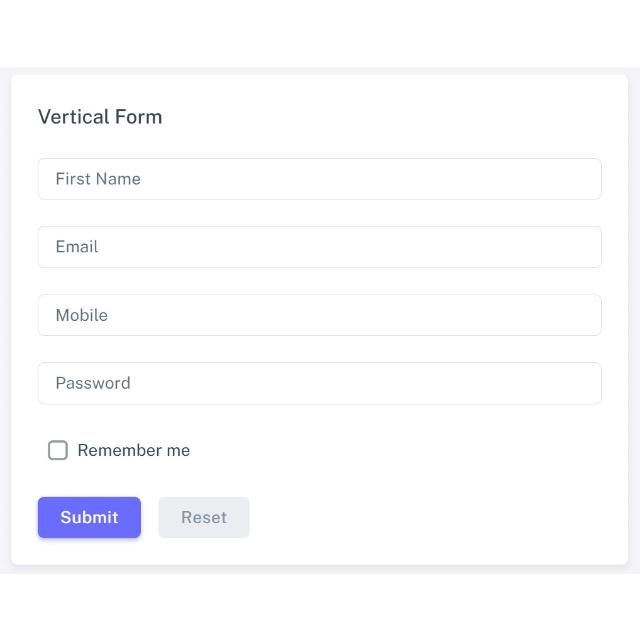QLabel: (35, 105, 163, 127), (76, 441, 190, 459), (58, 509, 119, 525), (179, 509, 227, 525)
VBtn: (36, 494, 142, 540), (157, 494, 251, 540)
VCard: (11, 71, 632, 567)
VCheckbox: (46, 439, 68, 461)
VTextField: (36, 155, 604, 201), (36, 360, 604, 406), (37, 292, 603, 338), (35, 224, 603, 268)
